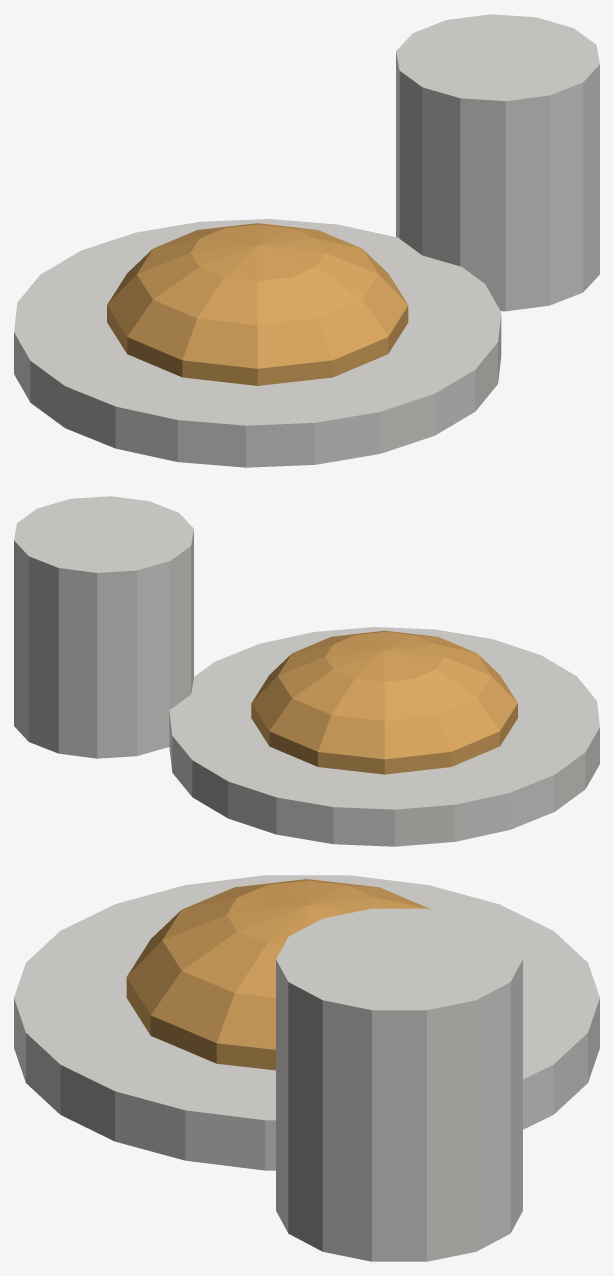
The model's file is meal.glb.
3 renders of one model, top to bottom at view 1: azimuth 30°, elevation 25°; view 2: azimuth 150°, elevation 25°; view 3: azimuth 270°, elevation 25°, orthographic. The views are drawn at different scales.
Parts seen in each view (by area): view 1: Plate, Cup, Food; view 2: Plate, Cup, Food; view 3: Cup, Plate, Food.
Boxes of the visible parts, left/top/right/bottom form: Plate: left=14, top=219, right=501, bottom=467; Cup: left=396, top=14, right=599, bottom=311; Food: left=107, top=223, right=408, bottom=385; Plate: left=169, top=627, right=599, bottom=846; Cup: left=14, top=496, right=193, bottom=758; Food: left=251, top=630, right=517, bottom=774; Cup: left=276, top=908, right=522, bottom=1261; Plate: left=14, top=875, right=599, bottom=1170; Food: left=126, top=879, right=431, bottom=1070.
Bounding box in the file's own units: 0.0258 × 0.0105 × 0.019.
